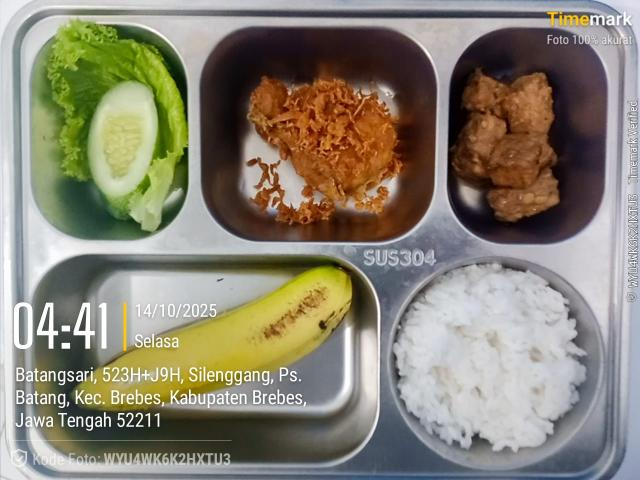ayam: (248, 76, 402, 213)
buah: (79, 266, 352, 402)
nasi: (393, 264, 586, 452)
sayur: (48, 20, 188, 232)
tempe: (452, 69, 559, 221)
